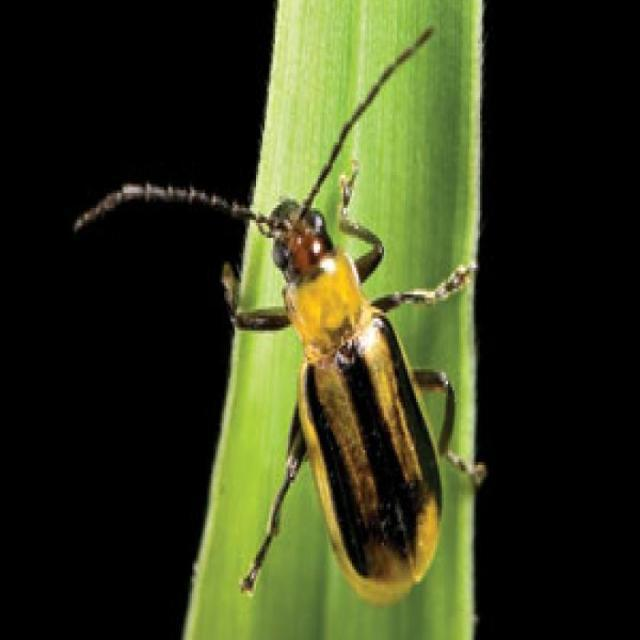trips: (75, 22, 487, 600)
